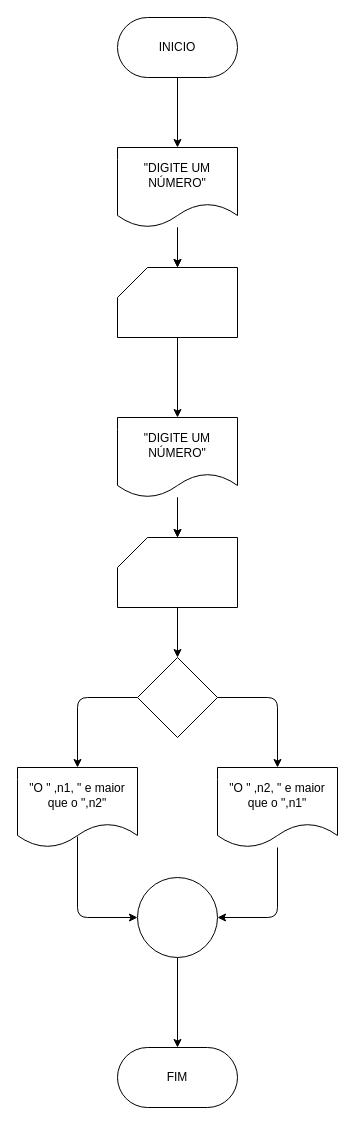
The diagram is 355 pixels wide and 1125 high, and some of its shapes have lost their labels. Each missing label, with the centre of its shape:
"n1" goes at [177,302].
"n1>n2" goes at [177,697].
"n2" goes at [177,572].
